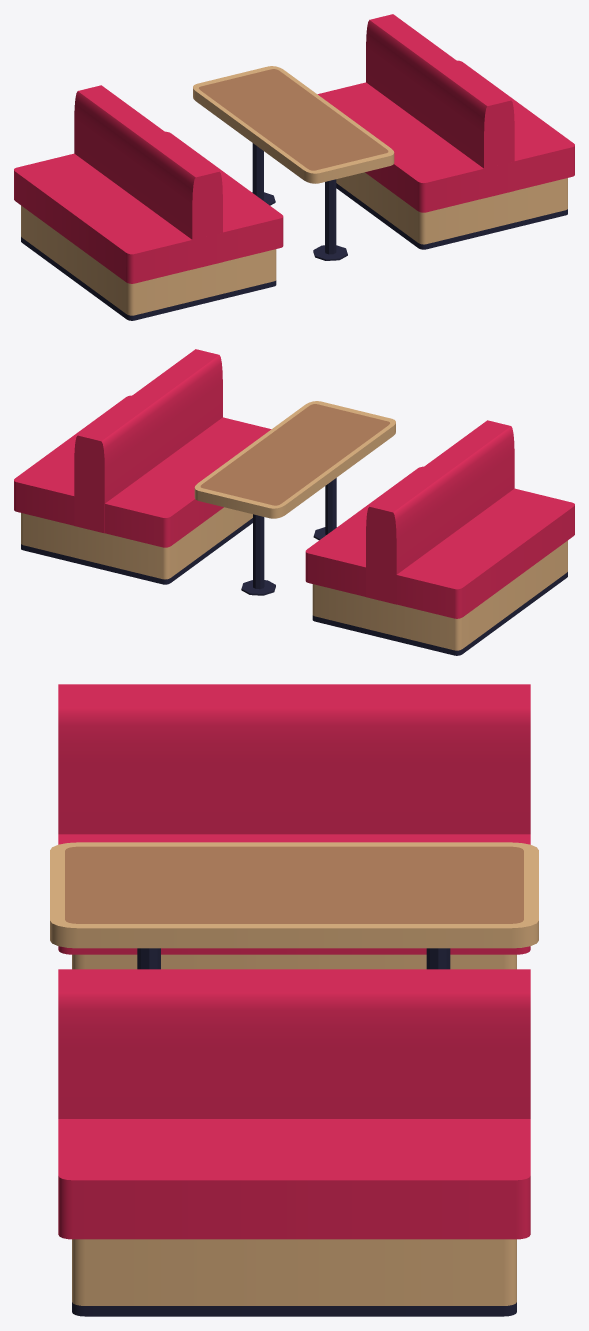
The model's file is bancossushi.fbx.
3 renders of one model, top to bottom at view 1: azimuth 30°, elevation 25°; view 2: azimuth 150°, elevation 25°; view 3: azimuth 270°, elevation 25°, orthographic. The views are drawn at different scales.
Parts seen in each view (by area): view 1: Cube.003, Cube.001, Cube.002, Cylinder.001; view 2: Cube.003, Cube.001, Cube.002, Cylinder.001; view 3: Cube.001, Cube.003, Cube.002, Cylinder.001.
Part boxes in pixels (x1,y1,x2,y2): Cube.003: [14, 85, 283, 320]; Cube.001: [317, 14, 574, 249]; Cube.002: [193, 66, 394, 183]; Cylinder.001: [252, 143, 347, 260]; Cube.003: [305, 420, 574, 655]; Cube.001: [14, 349, 271, 584]; Cube.002: [194, 401, 395, 518]; Cylinder.001: [241, 478, 336, 595]; Cube.001: [58, 969, 530, 1316]; Cube.003: [58, 684, 530, 969]; Cube.002: [50, 842, 538, 948]; Cylinder.001: [137, 948, 450, 969].
Size of the model in its own units: 635 by 178 by 300.
